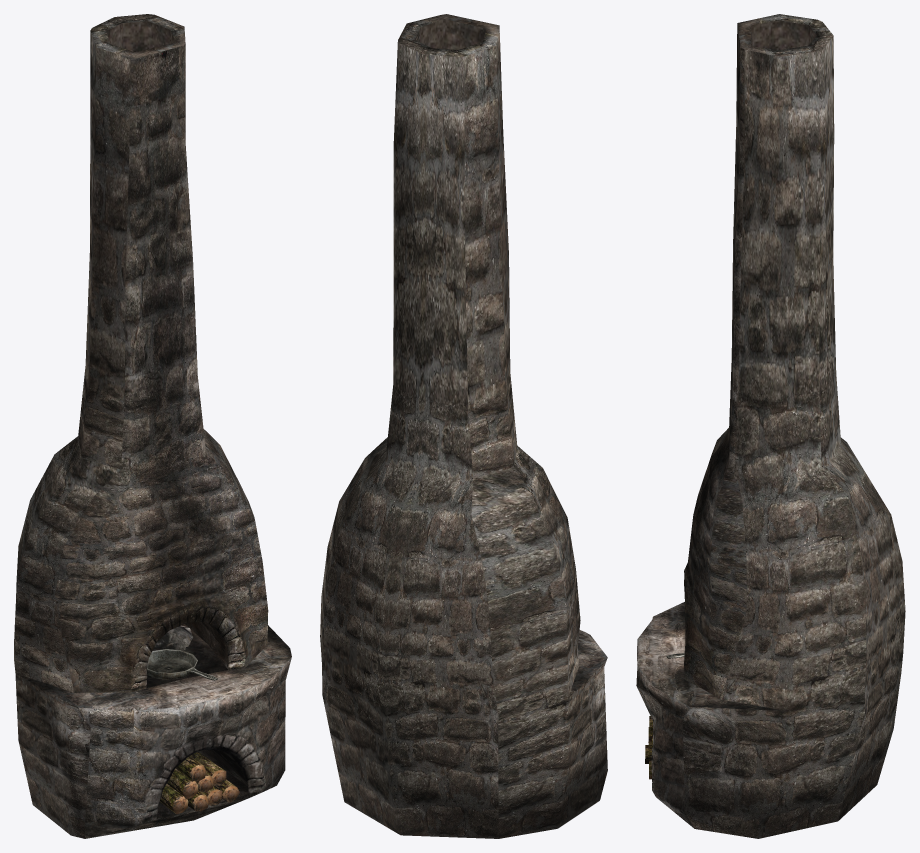
The model's file is oven.dae.
3 renders of one model, left to right at view 1: azimuth 30°, elevation 25°; view 2: azimuth 150°, elevation 25°; view 3: azimuth 270°, elevation 25°, orthographic. The views are drawn at different scales.
Parts seen in each view (by area): view 1: Mesh; view 2: Mesh; view 3: Mesh.
Part boxes in pixels (x1,y1,x2,y2): Mesh: (14,14,291,838); Mesh: (320,14,607,838); Mesh: (636,14,905,838).
Bounding box in the file's own units: 1.57 × 1.51 × 4.64.
Materials: 3 (3 with a texture image).
